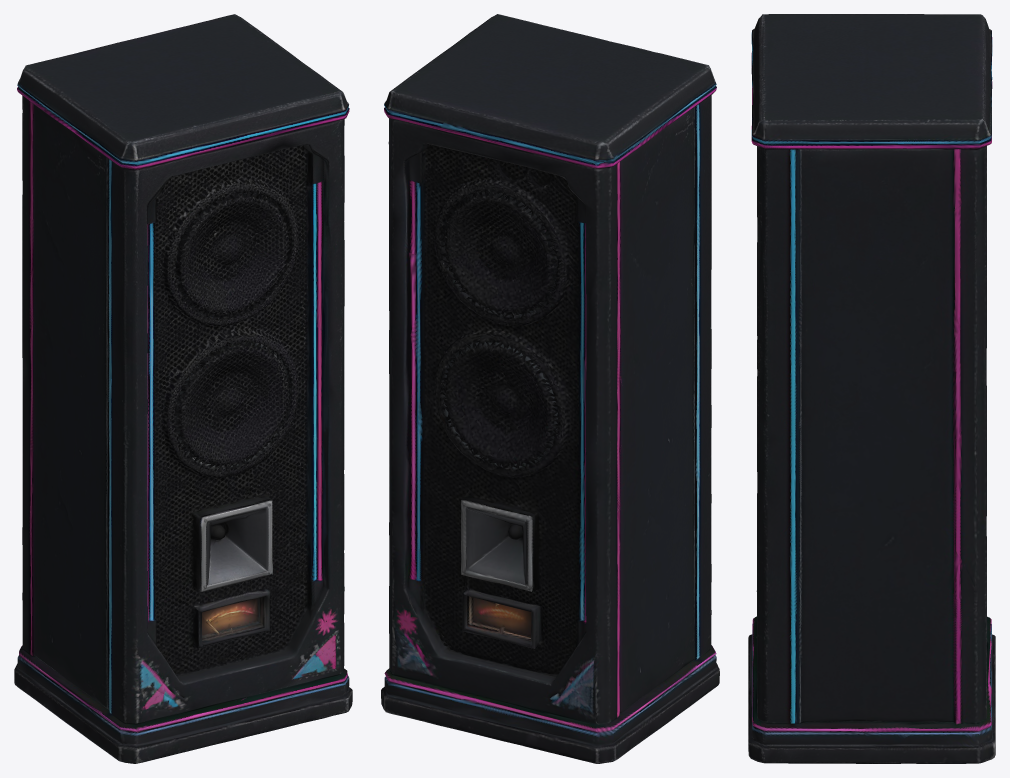
File: speaker-tower.glb
3 renders of one model, left to right at view 1: azimuth 30°, elevation 25°; view 2: azimuth 150°, elevation 25°; view 3: azimuth 270°, elevation 25°, orthographic. The views are drawn at different scales.
Visible parts, largest first — view 1: tripo_node_9304dce5-0cb7-4538-b259-073eabbfe376; view 2: tripo_node_9304dce5-0cb7-4538-b259-073eabbfe376; view 3: tripo_node_9304dce5-0cb7-4538-b259-073eabbfe376.
Part boxes in pixels (x1,y1,x2,y2): tripo_node_9304dce5-0cb7-4538-b259-073eabbfe376: [14, 14, 352, 763]; tripo_node_9304dce5-0cb7-4538-b259-073eabbfe376: [381, 14, 719, 763]; tripo_node_9304dce5-0cb7-4538-b259-073eabbfe376: [748, 14, 995, 763].
Size of the model in its own units: 0.3902 by 0.9807 by 0.3442.
1 material, 1 textured.
